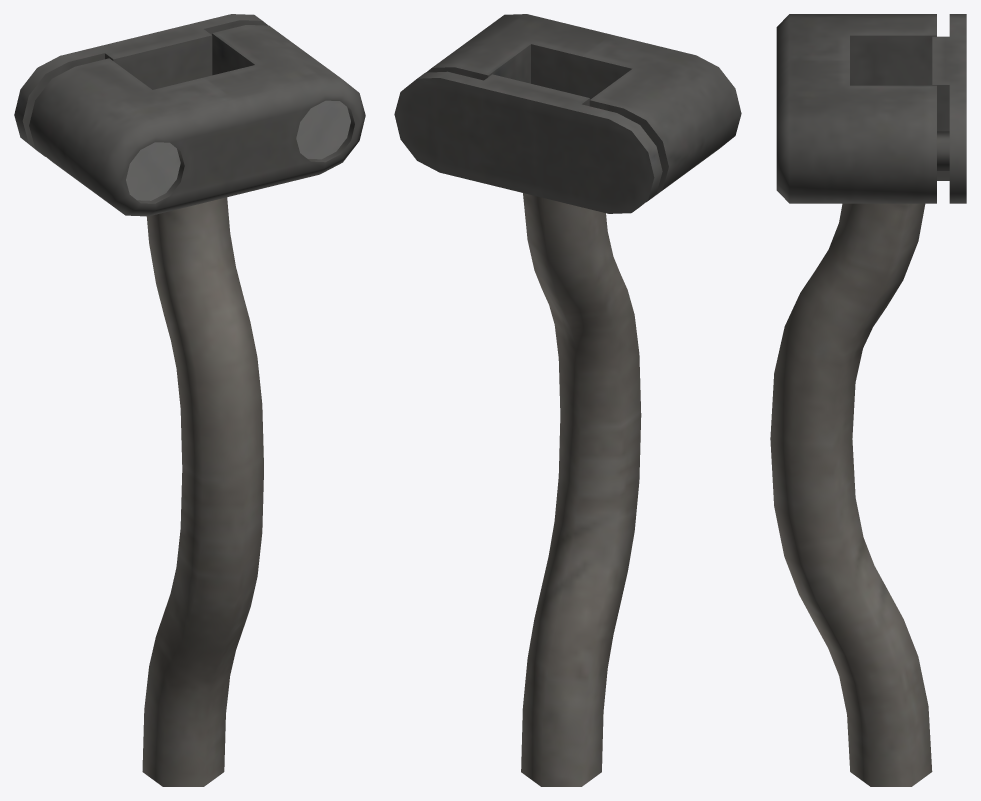
File: cable_cable_bridge_3.fbx
3 views of the same model, side by side, from view 1: azimuth 30°, elevation 25°; view 2: azimuth 150°, elevation 25°; view 3: azimuth 270°, elevation 25° (orthographic).
Visible parts, largest first — view 1: modular_electric_cables__cable_bridge_3; view 2: modular_electric_cables__cable_bridge_3; view 3: modular_electric_cables__cable_bridge_3.
Part boxes in pixels (x1=…): modular_electric_cables__cable_bridge_3: x1=14, y1=14, x2=365, y2=786; modular_electric_cables__cable_bridge_3: x1=394, y1=14, x2=741, y2=786; modular_electric_cables__cable_bridge_3: x1=770, y1=14, x2=966, y2=786.
Bounding box in the file's own units: 0.0416 × 0.1073 × 0.0268.
